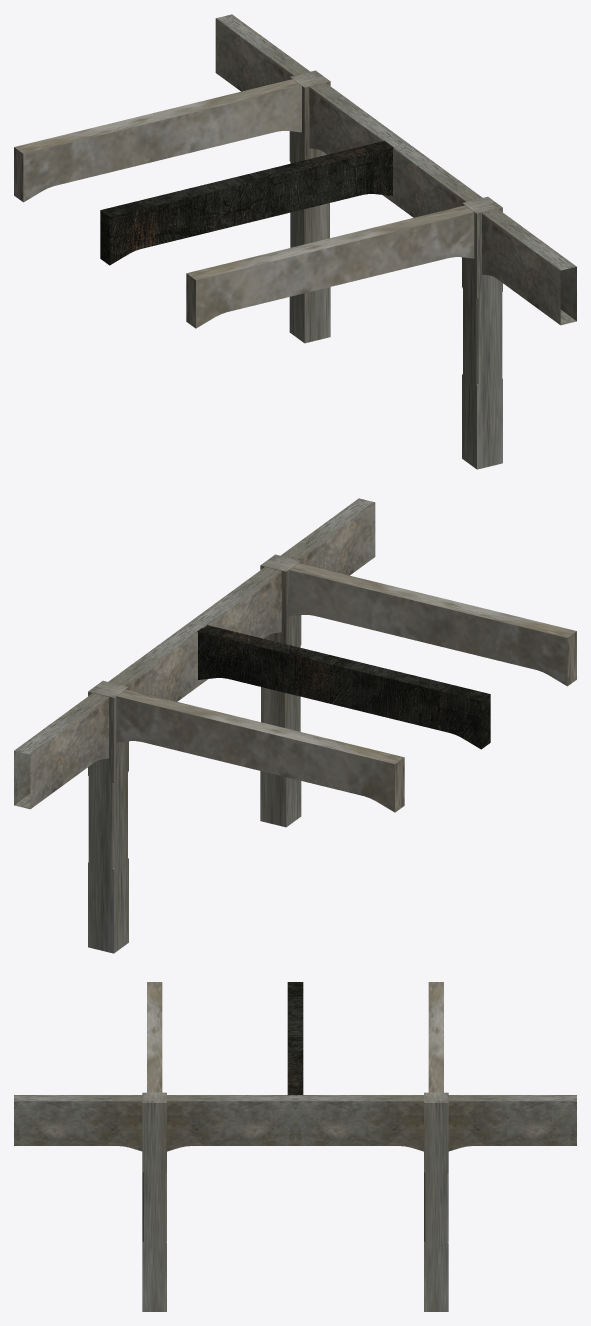
The model's file is pathPillars.fbx.
3 renders of one model, top to bottom at view 1: azimuth 30°, elevation 25°; view 2: azimuth 150°, elevation 25°; view 3: azimuth 270°, elevation 25°, orthographic. The views are drawn at different scales.
Parts seen in each view (by area): view 1: Cube.013; view 2: Cube.013; view 3: Cube.013.
Part boxes in pixels (x1,y1,x2,y2): Cube.013: [14, 14, 576, 469]; Cube.013: [14, 498, 576, 953]; Cube.013: [14, 982, 576, 1311].
Bounding box in the file's own units: 408 × 327 × 800.
Materials: 3 (3 with a texture image).
